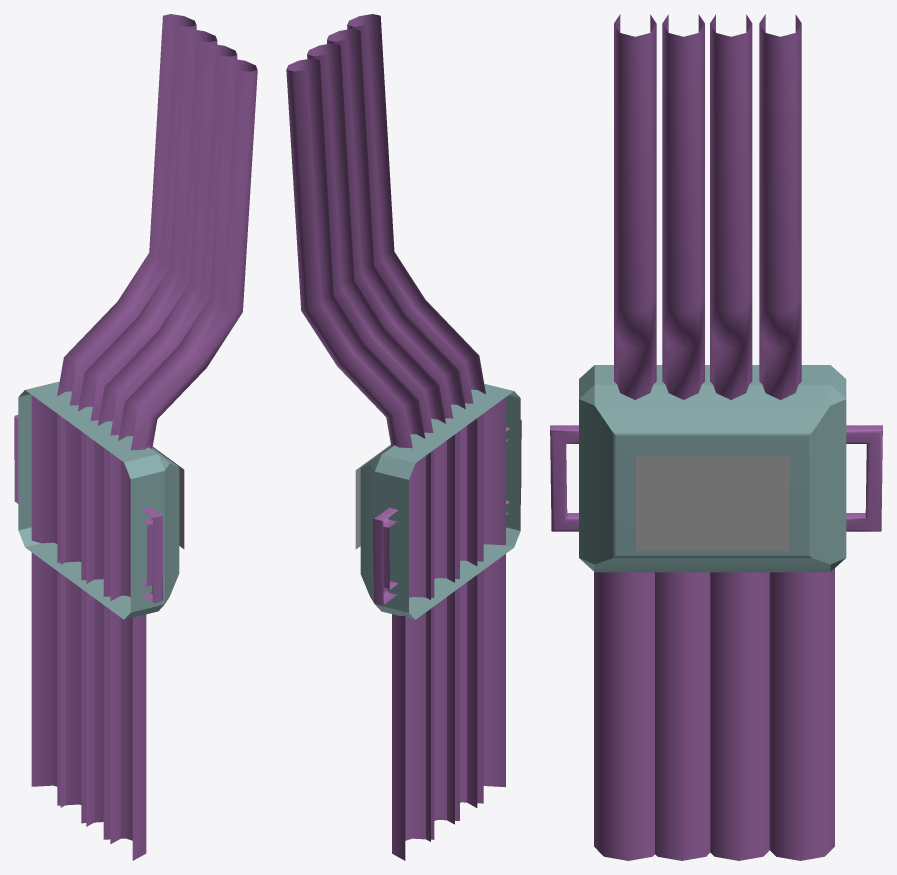
The model's file is P_Generador_Pantallas_Cloacas.fbx.
The picture shows the model from 3 angles, left to right: view 1: azimuth 30°, elevation 25°; view 2: azimuth 150°, elevation 25°; view 3: azimuth 270°, elevation 25°; orthographic projection. The views are drawn at different scales.
Visible parts, largest first — view 1: polySurface11, polySurface1, Holo; view 2: polySurface11, polySurface1, polySurface6, Holo; view 3: polySurface11, polySurface1, Holo, polySurface6.
Boxes of the visible parts, x1,y1,x2,y2 form: polySurface11: (31,14,257,860); polySurface1: (18,381,179,619); Holo: (152,447,184,548); polySurface11: (286,14,521,860); polySurface1: (360,384,520,619); polySurface6: (373,507,397,605); Holo: (355,444,390,549); polySurface11: (550,14,834,860); polySurface1: (579,365,846,572); Holo: (636,456,789,551); polySurface6: (846,425,882,531).
Size of the model in its own units: 2.12 by 10.26 by 3.44.
